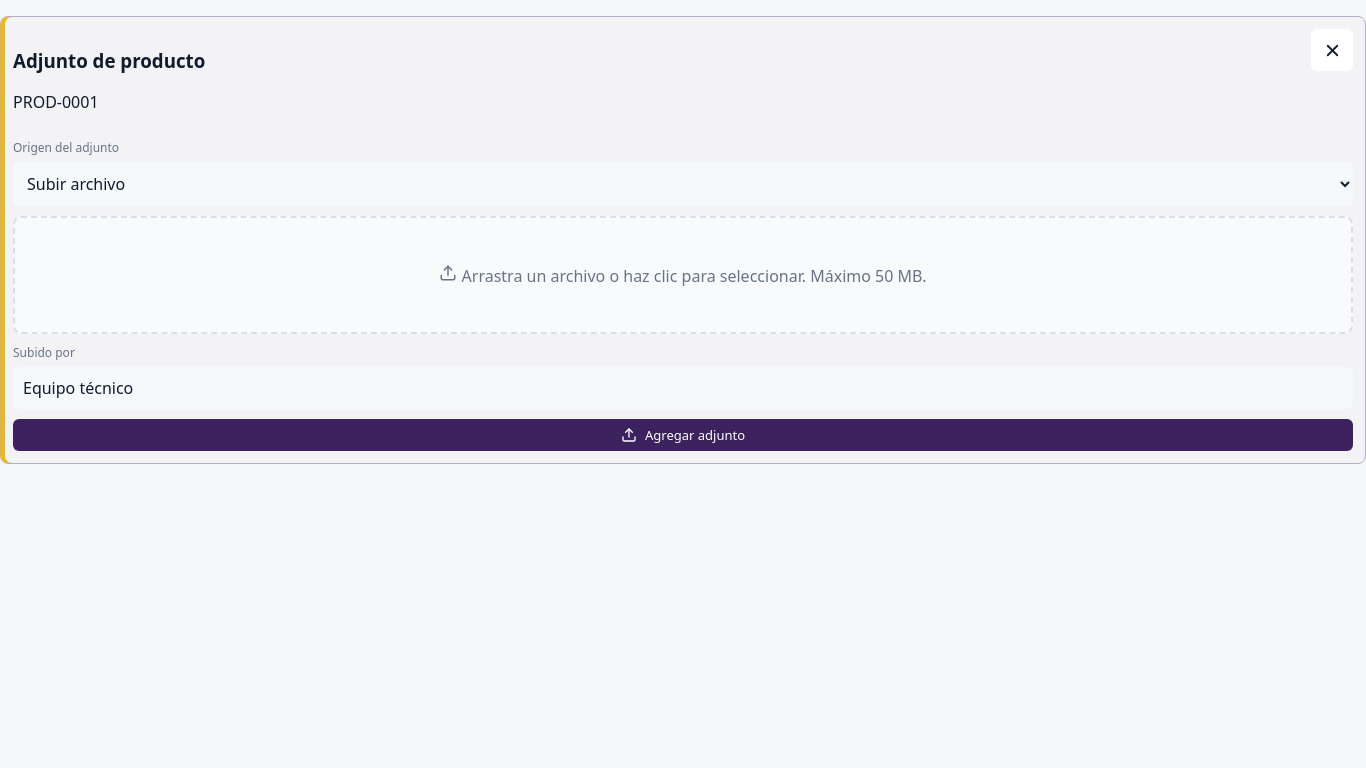
ProductAttachmentPanel › valida archivo requerido y URL inválida
Click the button "Agregar adjunto" at (683, 435), box [13,419,1353,451]
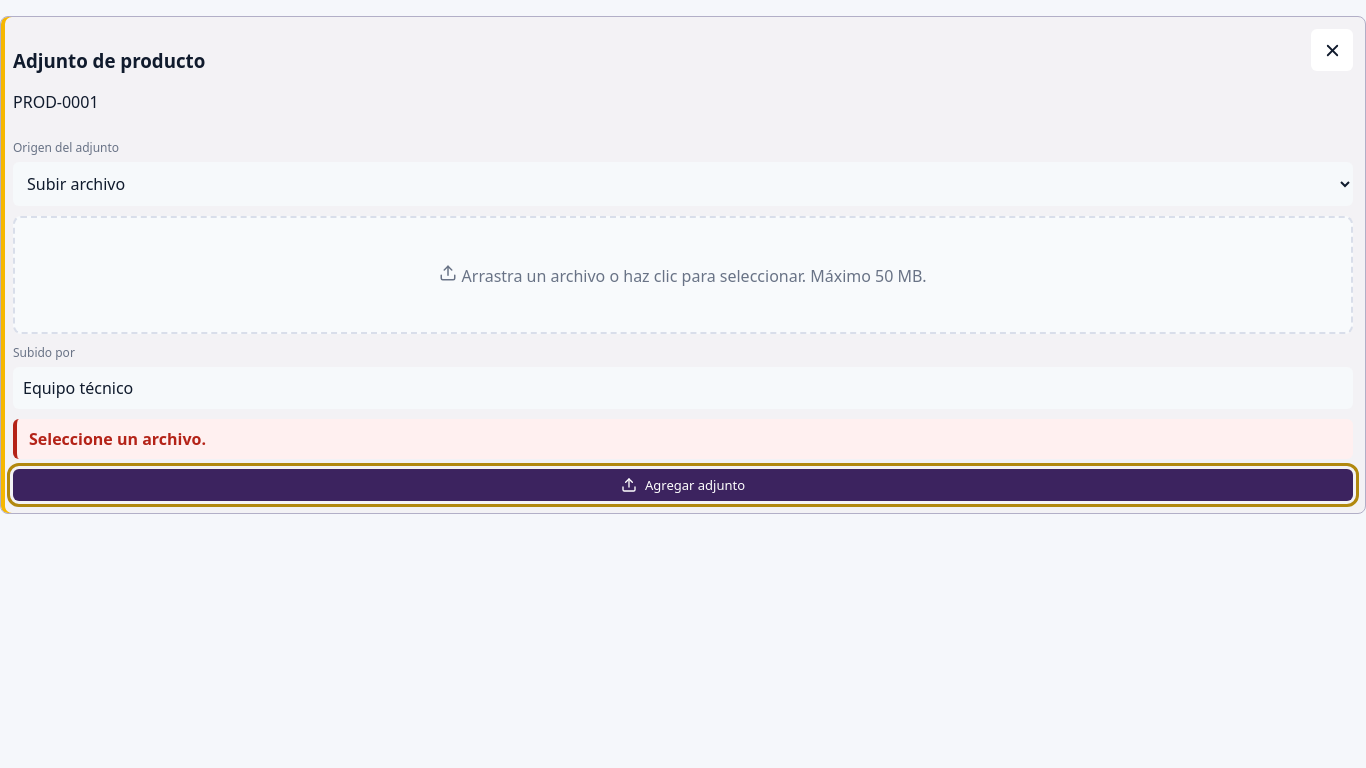
Now the message shows "Seleccione un archivo", box [29,428,206,450]
Select "Ingresar URL" in the dropdown labelled "Origen del adjunto" at (683, 184), box [13,162,1353,206]
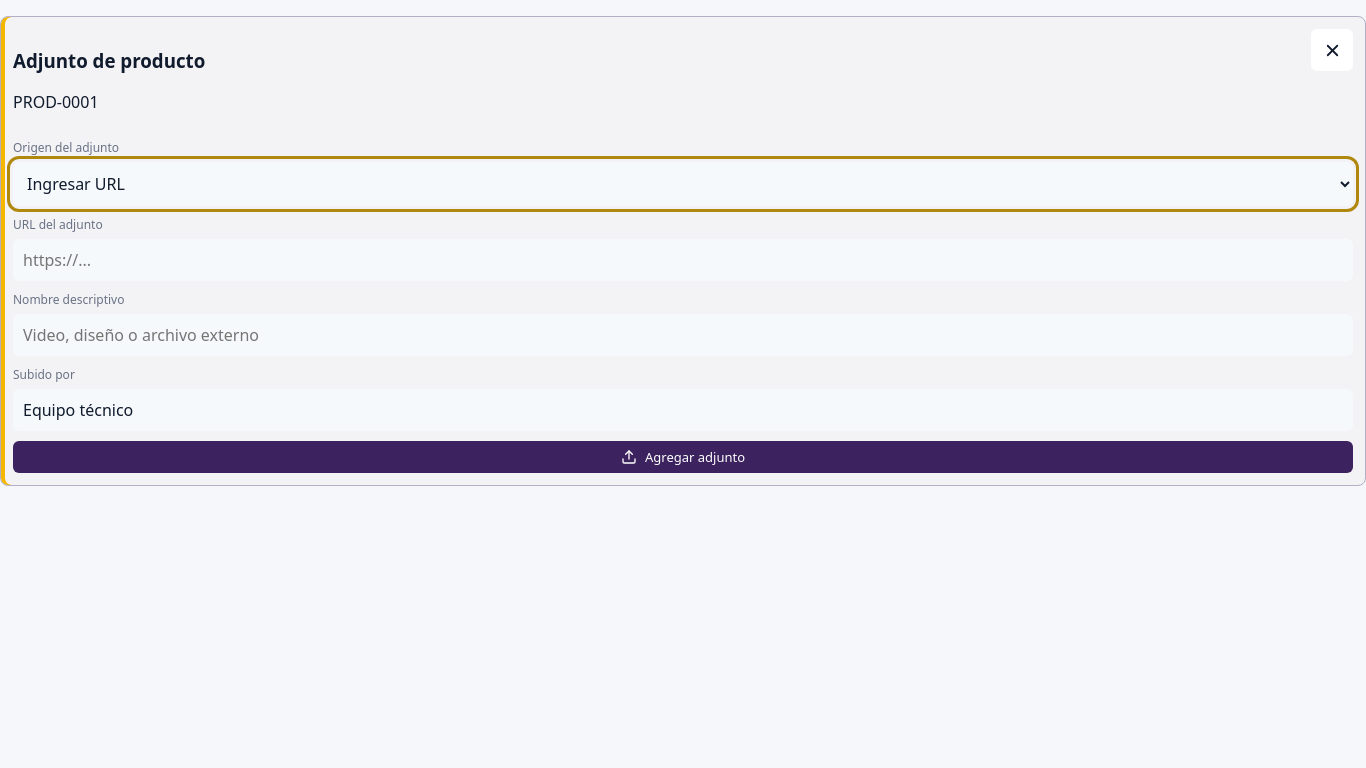
Type "ftp://example.com/file" into the field labelled "URL del adjunto" at (683, 260), box [13,239,1353,281]
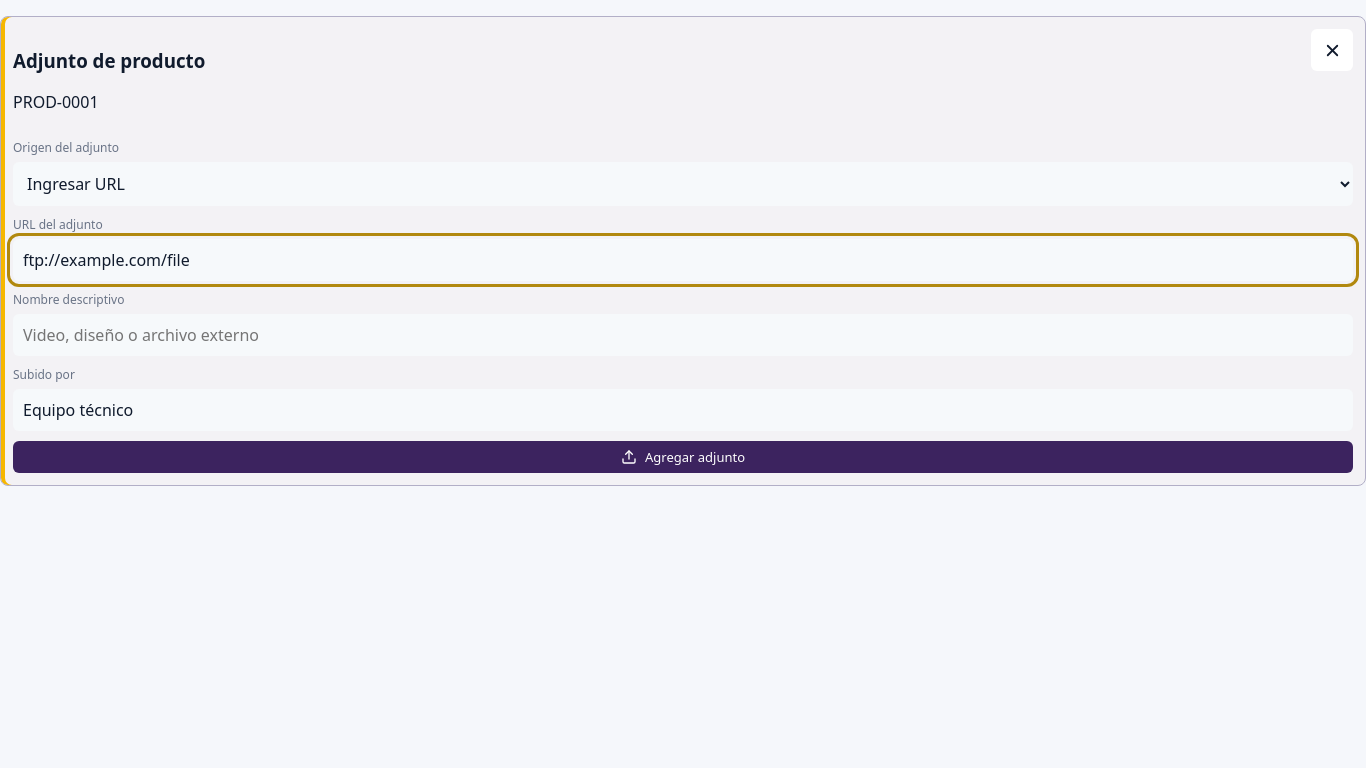
Click the button "Agregar adjunto" at (683, 457), box [13,441,1353,473]
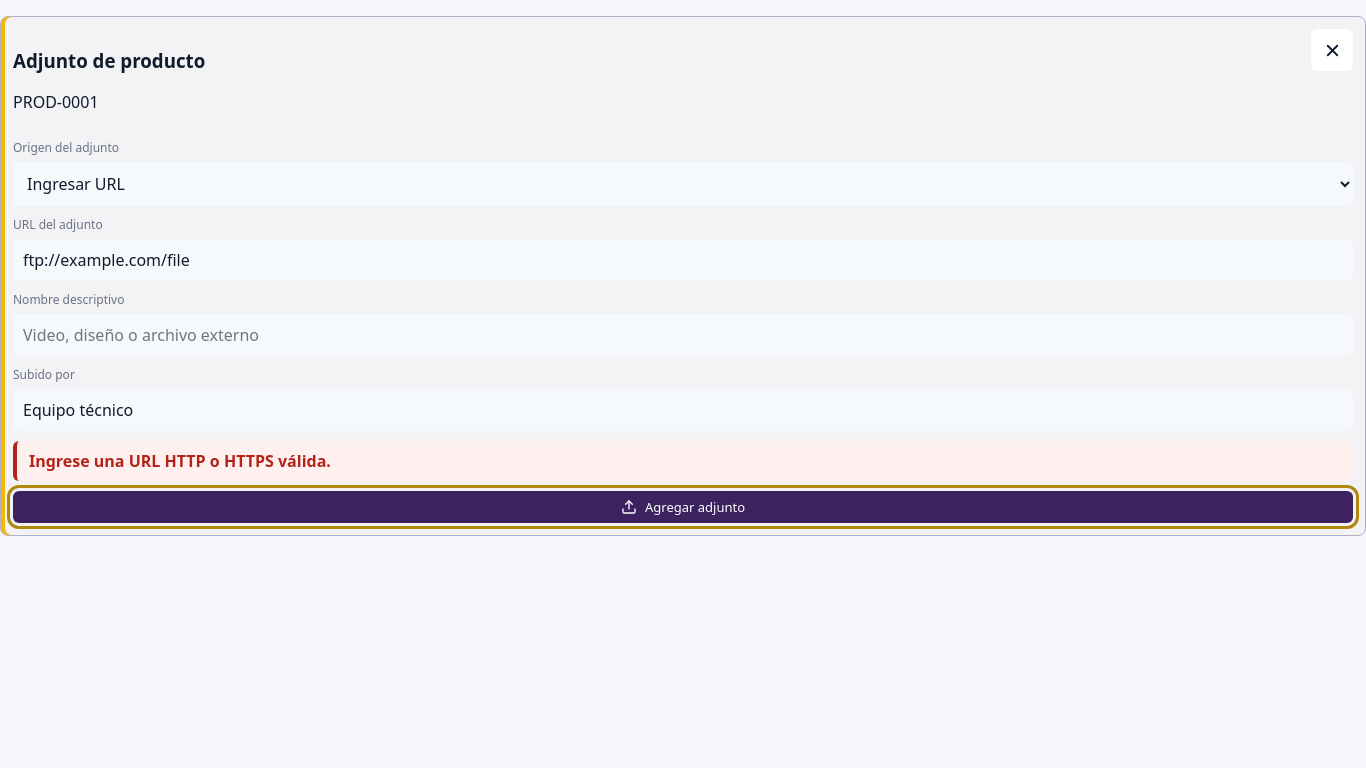
Now the message shows "URL HTTP o HTTPS válida", box [29,450,331,472]
